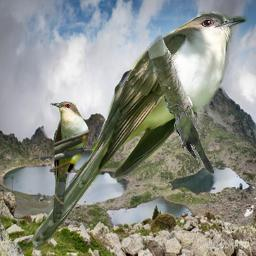Cuckoo: (28, 10, 248, 256), (50, 101, 90, 219), (167, 104, 217, 174)
